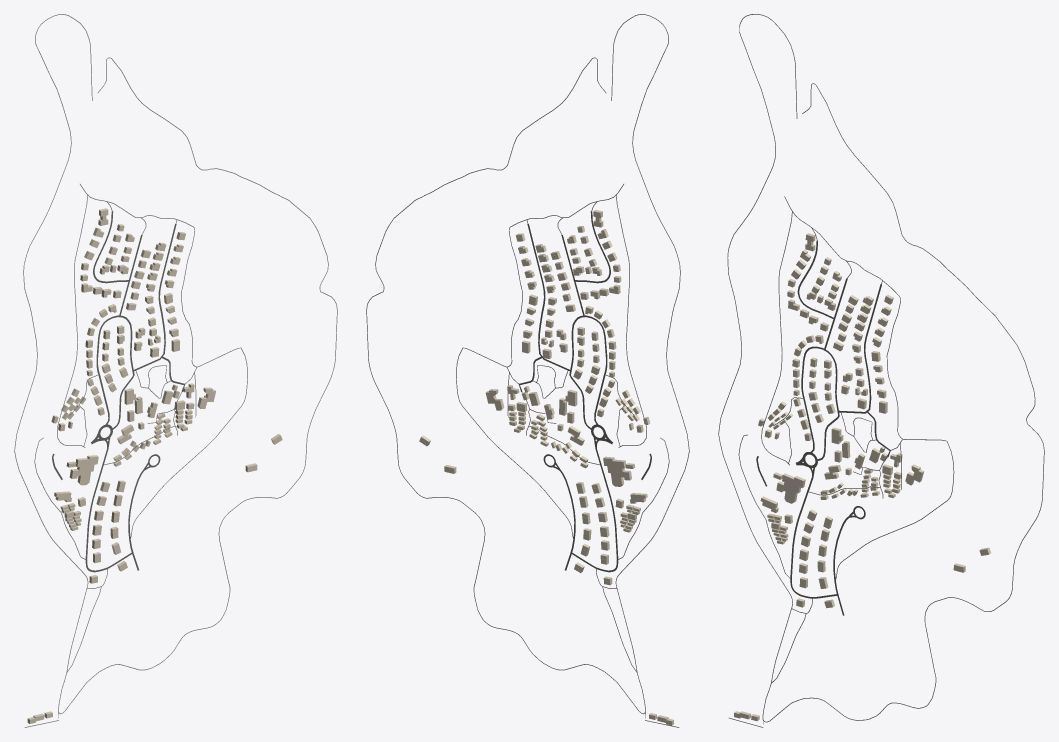
Rendered from historic-palestine-10_20_3516_3148.glb.
3 views of the same model, side by side, from view 1: azimuth 30°, elevation 25°; view 2: azimuth 150°, elevation 25°; view 3: azimuth 330°, elevation 25° (orthographic).
Parts seen in each view (by area): view 1: Road .012, Building_.131; view 2: Road .012, Building_.131; view 3: Road .012, Building_.131.
Boxes of the visible parts, x1=… form: Road .012: x1=14, y1=14, x2=337, y2=714; Building_.131: x1=69, y1=455, x2=98, y2=485; Road .012: x1=366, y1=14, x2=689, y2=714; Building_.131: x1=603, y1=456, x2=631, y2=486; Road .012: x1=718, y1=14, x2=1044, y2=722; Building_.131: x1=776, y1=473, x2=805, y2=503.
Size of the model in its own units: 655 by 1367 by 8.7.
